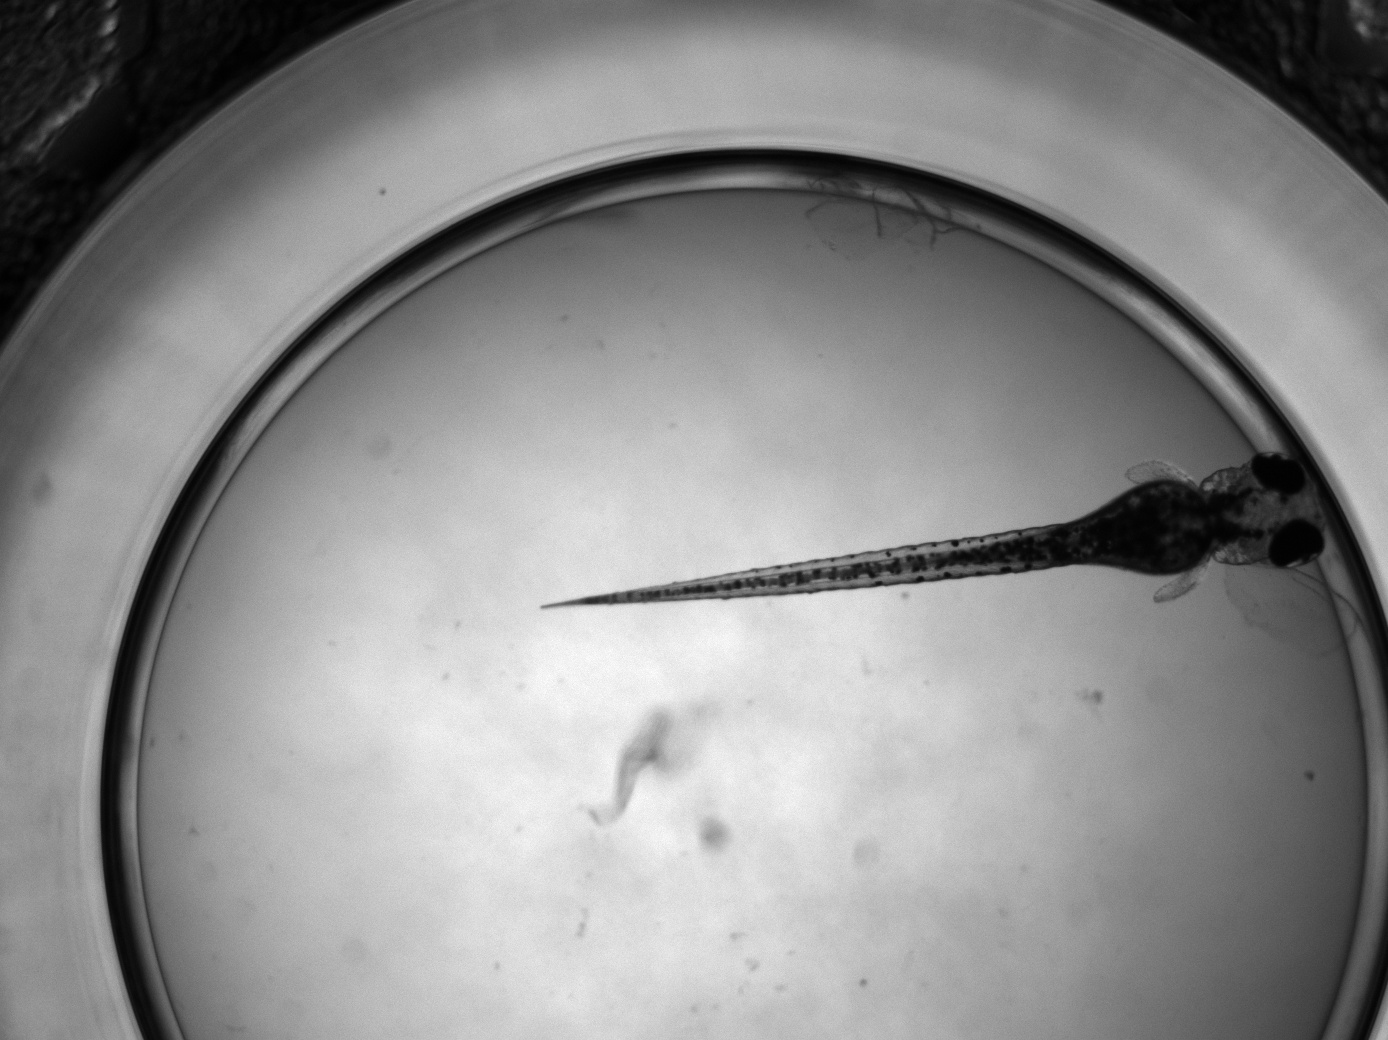embryo: (541, 451, 1327, 610)
eye: (1266, 518, 1325, 569), (1251, 452, 1306, 495)
yolksac: (1099, 478, 1212, 576)
